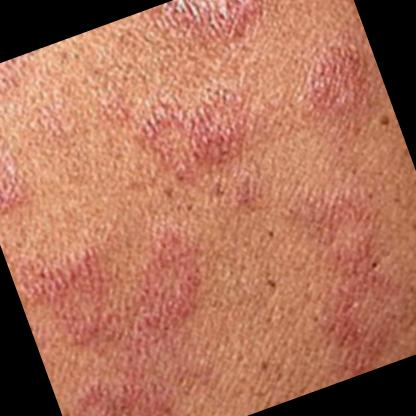Leprosy: (100, 5, 395, 210), (9, 201, 271, 416), (247, 156, 416, 391), (126, 0, 309, 77), (0, 132, 47, 239), (0, 49, 56, 126)
